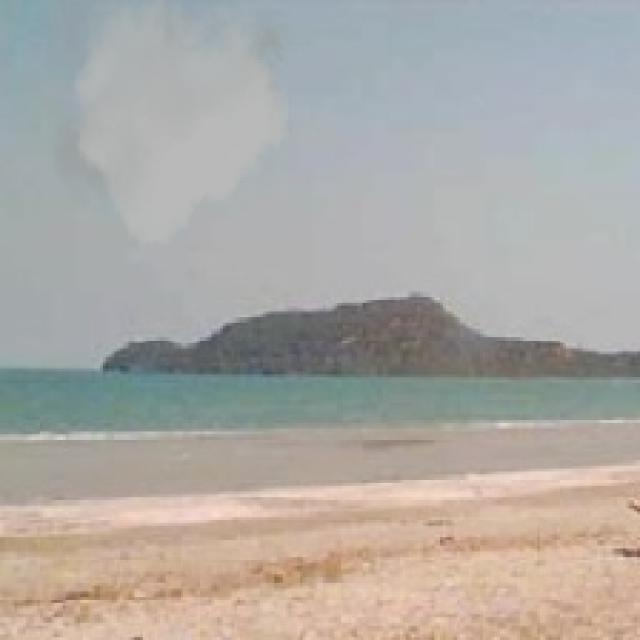smoke: (46, 0, 294, 246)
